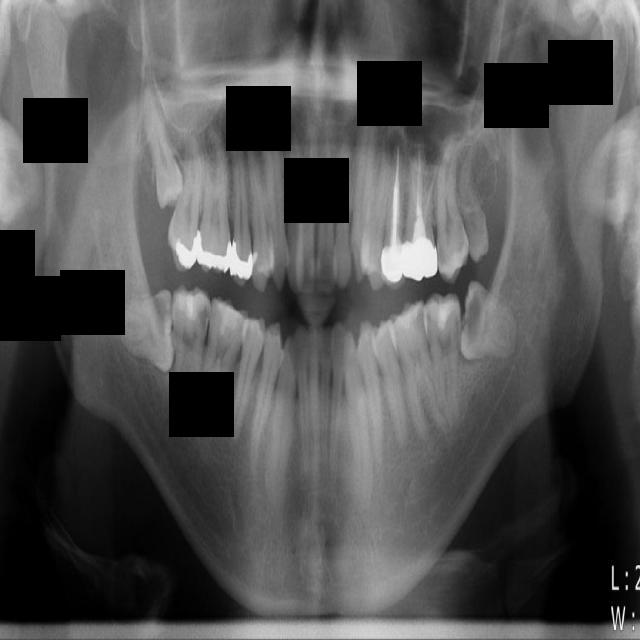3M ESPE Implant: (138, 91, 188, 209)
52: (377, 235, 443, 291), (194, 227, 232, 273), (250, 242, 274, 292), (172, 230, 200, 270), (229, 238, 252, 281)
73: (392, 148, 435, 252), (384, 143, 408, 249), (560, 554, 576, 554)
BioHorizons Implant: (434, 148, 470, 281)
BioLife Implant: (450, 140, 492, 262)
Biomet 3i Implant: (457, 282, 523, 368)
Blue Sky Bio Implant: (421, 291, 470, 425)
Caries: (165, 136, 207, 271)
Implant: (173, 288, 210, 425)
Keystone Dental Implant: (119, 291, 175, 373)
